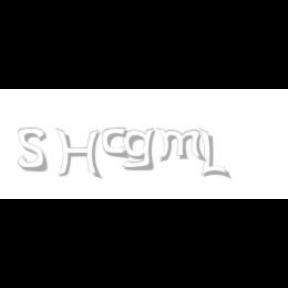H: (56, 128, 102, 180)
L: (200, 128, 228, 180)
S: (17, 128, 48, 172)
c: (102, 128, 130, 160)
g: (122, 128, 160, 171)
m: (156, 128, 208, 162)
